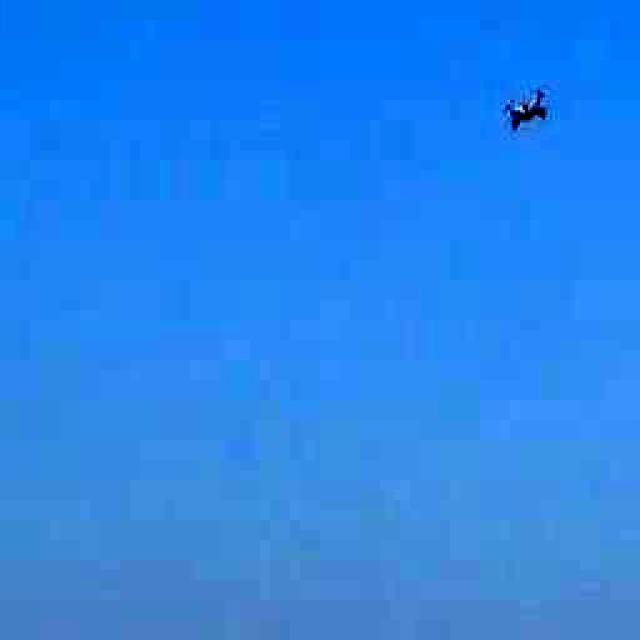bird: (468, 46, 575, 161)
